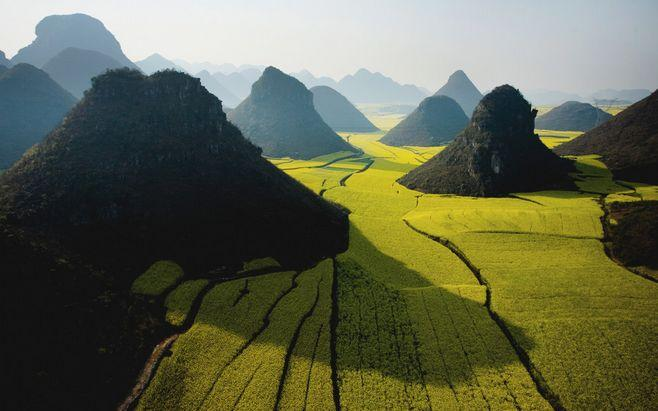mountain: (1, 63, 343, 288), (167, 230, 522, 396), (421, 81, 576, 202), (215, 68, 358, 156)
